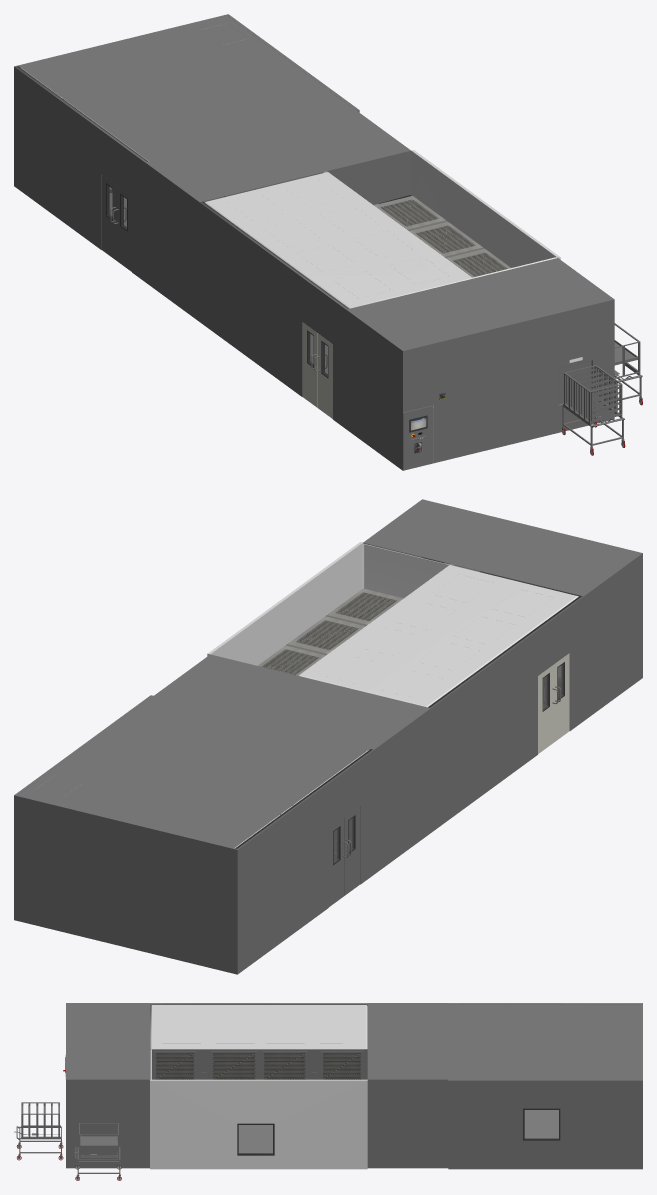
Rendered from AutoClave_Fbx.fbx.
3 renders of one model, top to bottom at view 1: azimuth 30°, elevation 25°; view 2: azimuth 150°, elevation 25°; view 3: azimuth 270°, elevation 25°, orthographic. The views are drawn at different scales.
Visible parts, largest first — view 1: polySurface432, polySurface431, polySurface563, polySurface788, polySurface773, polySurface400, polySurface552, polySurface709, polySurface614, polySurface720, polySurface546, polySurface547 (+8 smaller); view 2: polySurface431, polySurface361, polySurface788, polySurface432, polySurface563, polySurface773, polySurface400, polySurface552, polySurface545, polySurface544, polySurface826, polySurface825 (+3 smaller); view 3: polySurface552, polySurface569, polySurface431, polySurface563, polySurface432, polySurface788, polySurface709, polySurface581, polySurface390, polySurface696, polySurface403, polySurface663 (+8 smaller).
Boxes of the visible parts, bbox=[...] form: polySurface432: bbox=[346, 258, 614, 470]; polySurface431: bbox=[19, 15, 356, 161]; polySurface563: bbox=[145, 111, 411, 321]; polySurface788: bbox=[205, 172, 556, 406]; polySurface773: bbox=[199, 201, 349, 428]; polySurface400: bbox=[14, 66, 148, 281]; polySurface552: bbox=[411, 150, 560, 267]; polySurface709: bbox=[327, 151, 411, 204]; polySurface614: bbox=[563, 365, 622, 424]; polySurface720: bbox=[403, 405, 433, 470]; polySurface546: bbox=[409, 221, 482, 256]; polySurface547: bbox=[374, 195, 445, 229]; polySurface431: bbox=[18, 696, 369, 848]; polySurface361: bbox=[14, 795, 238, 974]; polySurface788: bbox=[299, 543, 578, 750]; polySurface432: bbox=[363, 499, 642, 720]; polySurface563: bbox=[154, 654, 430, 874]; polySurface773: bbox=[428, 595, 583, 832]; polySurface400: bbox=[235, 749, 374, 973]; polySurface552: bbox=[207, 542, 362, 665]; polySurface545: bbox=[288, 616, 365, 653]; polySurface544: bbox=[327, 589, 403, 624]; polySurface826: bbox=[328, 818, 348, 907]; polySurface825: bbox=[344, 806, 360, 895]; polySurface552: bbox=[150, 1079, 367, 1169]; polySurface569: bbox=[448, 1079, 641, 1169]; polySurface431: bbox=[448, 1004, 641, 1079]; polySurface563: bbox=[367, 1003, 448, 1168]; polySurface432: bbox=[66, 1003, 149, 1168]; polySurface788: bbox=[150, 1004, 367, 1079]; polySurface709: bbox=[152, 1049, 367, 1079]; polySurface581: bbox=[239, 1110, 558, 1152]; polySurface390: bbox=[213, 1053, 255, 1079]; polySurface696: bbox=[264, 1053, 305, 1079]; polySurface403: bbox=[156, 1053, 194, 1079]; polySurface663: bbox=[323, 1053, 360, 1079].
Bounding box in the file's own units: 735 × 334 × 2139.
Materials: 17 (1 with a texture image).
